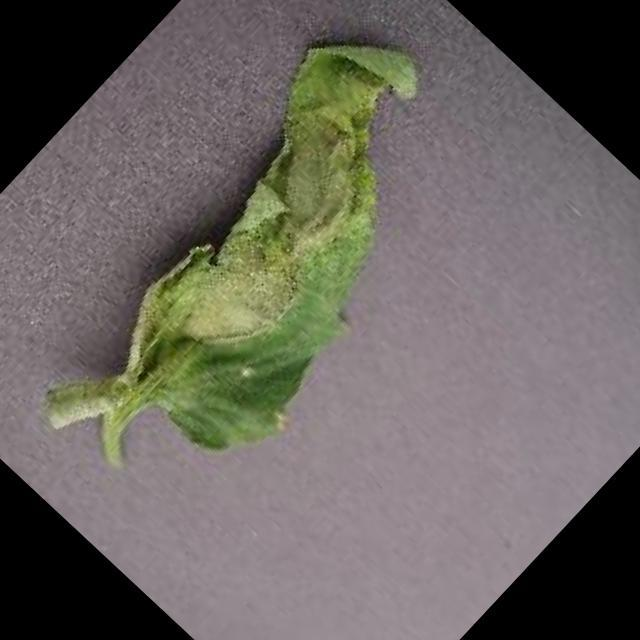Tomato late blight leaf: (56, 0, 533, 486)
